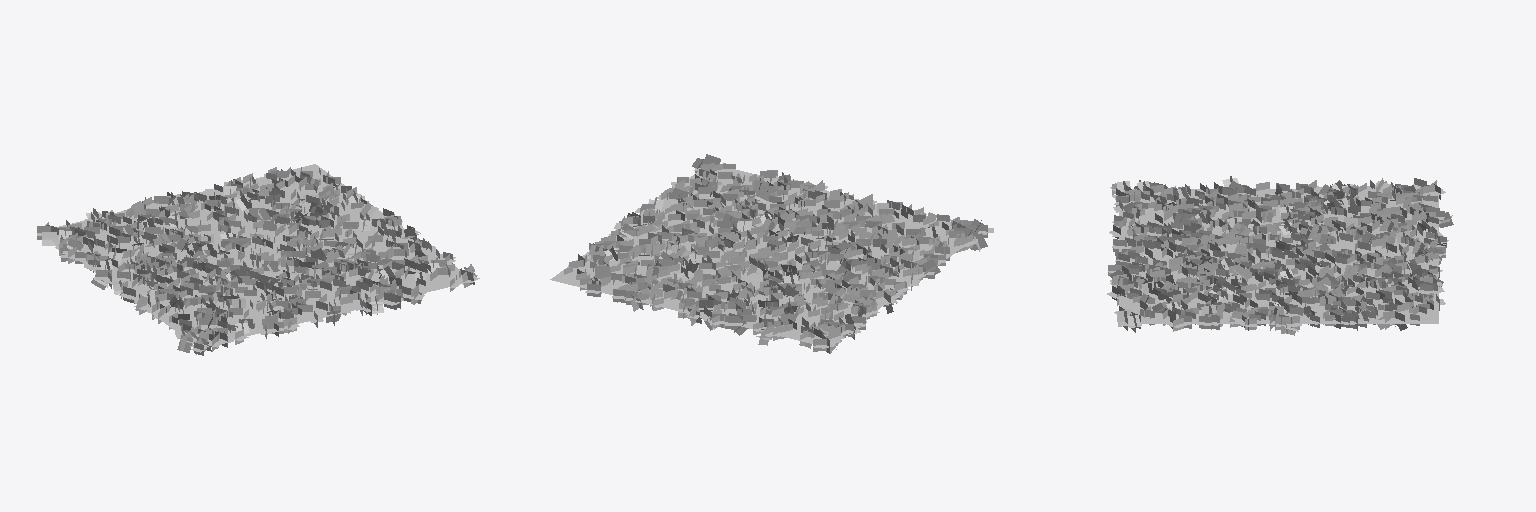
Rendered from grass.obj.
3 renders of one model, left to right at view 1: azimuth 30°, elevation 25°; view 2: azimuth 150°, elevation 25°; view 3: azimuth 270°, elevation 25°, orthographic.
Visible parts, largest first — view 1: MainPlane, Plane; view 2: MainPlane, Plane; view 3: MainPlane, Plane.
Boxes of the visible parts, box(x1,y1,x2,y2) form: MainPlane: box(42, 164, 479, 354); Plane: box(37, 167, 476, 355); MainPlane: box(550, 159, 987, 351); Plane: box(571, 154, 993, 353); MainPlane: box(1110, 180, 1445, 332); Plane: box(1107, 176, 1453, 335).
Bounding box in the file's own units: 2.15 × 0.1812 × 2.18.